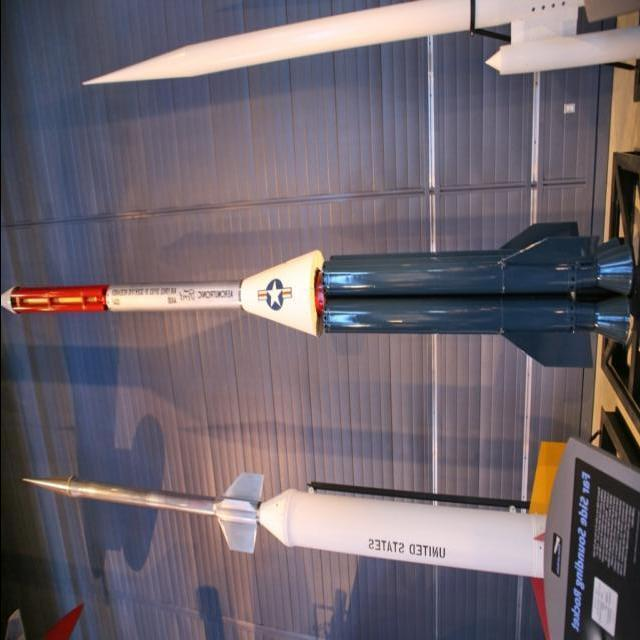missile: (4, 223, 640, 371), (20, 459, 557, 590), (72, 0, 640, 101)
